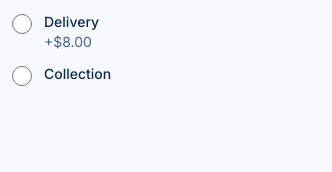
Test: RadioGroup + RadioItem › allows selecting an option
Click the radio button labelled "Delivery": (22, 24) [12, 14, 32, 34]
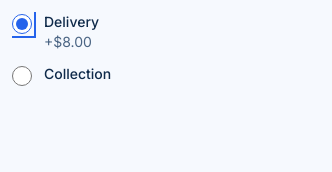
Expected: the radio button labelled "Delivery" is checked, [12, 14, 32, 34]
